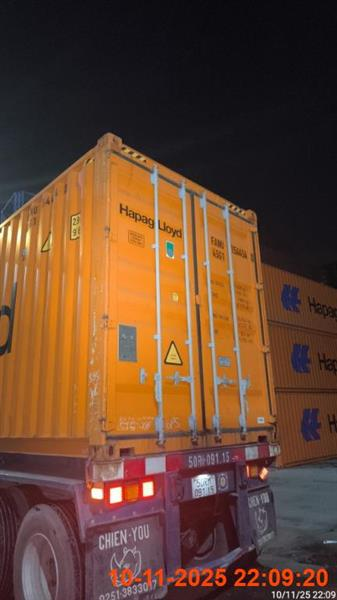hole: (0, 133, 281, 599)
